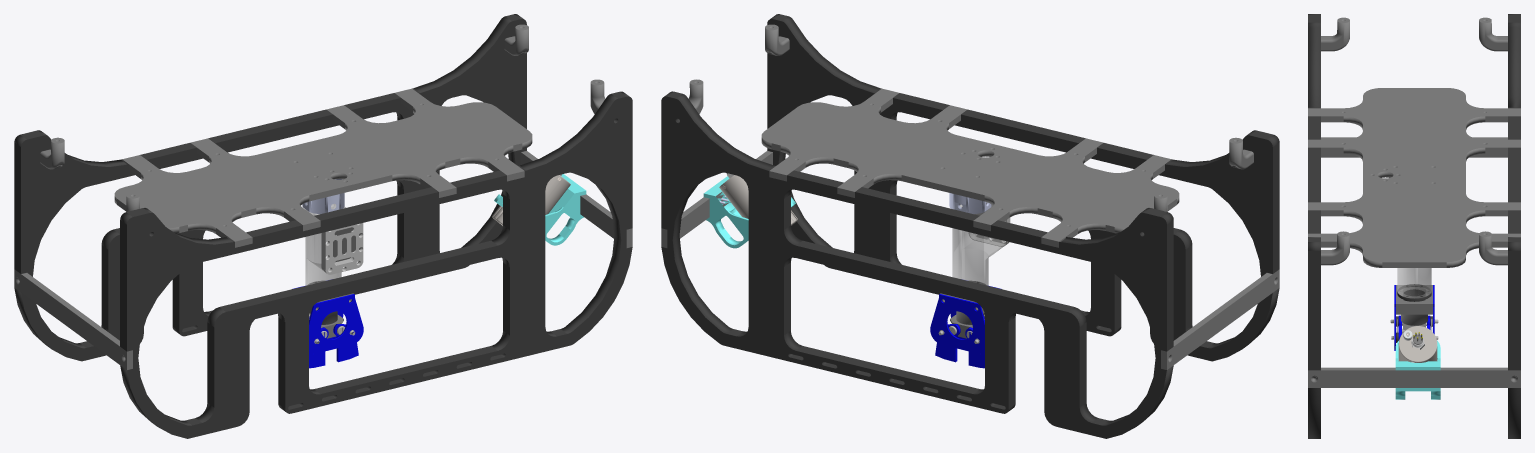
The model's file is skid_centered_x.obj.
The picture shows the model from 3 angles, left to right: view 1: azimuth 30°, elevation 25°; view 2: azimuth 150°, elevation 25°; view 3: azimuth 270°, elevation 25°; orthographic projection. The views are drawn at different scales.
Visible parts, largest first — view 1: RV-CAM-Halter-1-surface1_RV-CAM-Halter-1-surface1Mesh; view 2: RV-CAM-Halter-1-surface1_RV-CAM-Halter-1-surface1Mesh; view 3: RV-CAM-Halter-1-surface1_RV-CAM-Halter-1-surface1Mesh.
Part boxes in pixels (left/top/right/bottom): RV-CAM-Halter-1-surface1_RV-CAM-Halter-1-surface1Mesh: left=14, top=14, right=632, bottom=438; RV-CAM-Halter-1-surface1_RV-CAM-Halter-1-surface1Mesh: left=661, top=14, right=1279, bottom=438; RV-CAM-Halter-1-surface1_RV-CAM-Halter-1-surface1Mesh: left=1308, top=14, right=1520, bottom=438.
Size of the model in its own units: 0.855 by 0.3962 by 0.3301.
